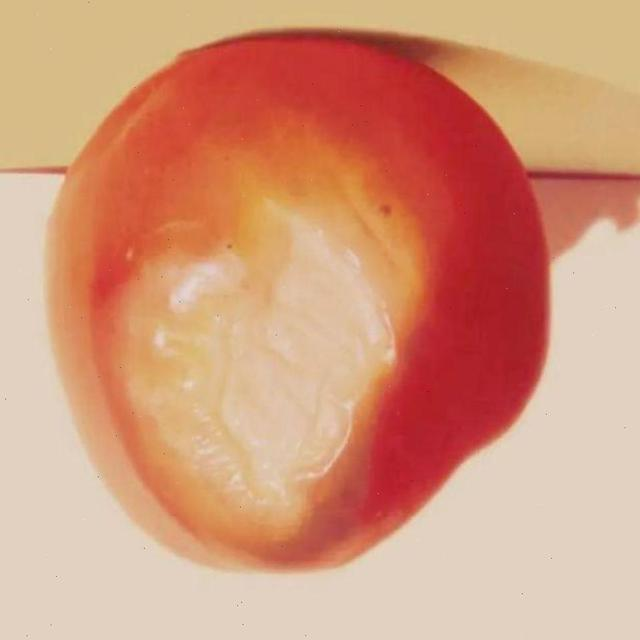Sunscald Fruit: (61, 95, 288, 362)
